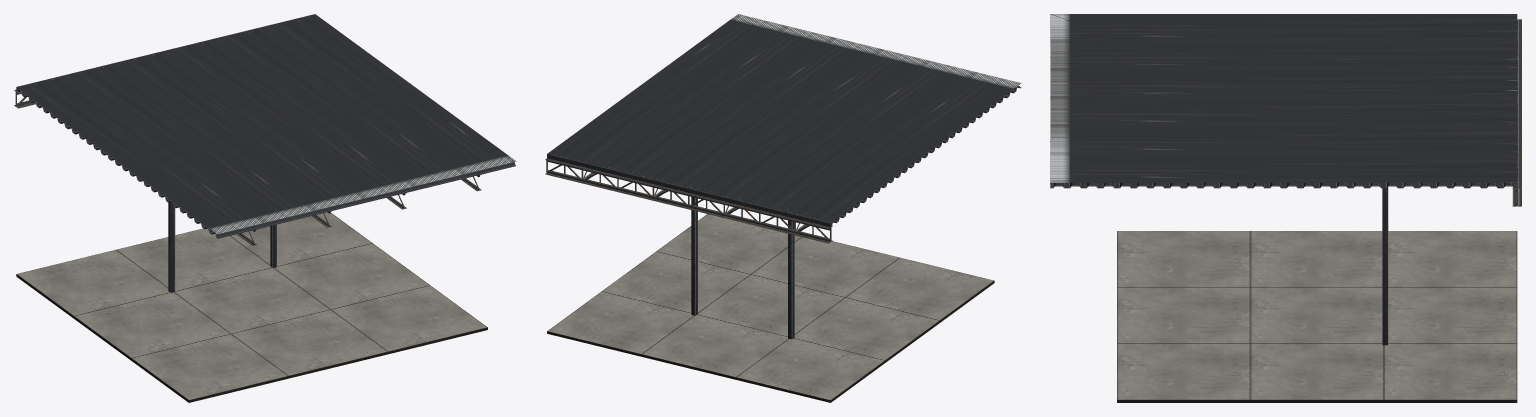
File: Corridor_T.fbx
3 views of the same model, side by side, from view 1: azimuth 30°, elevation 25°; view 2: azimuth 150°, elevation 25°; view 3: azimuth 270°, elevation 25° (orthographic). The views are drawn at different scales.
Parts seen in each view (by area): view 1: Ceiling, Floor, Trim; view 2: Ceiling, Floor, Trim; view 3: Ceiling, Floor, Trim.
Boxes of the visible parts, x1,y1,x2,y2 form: Ceiling: (14,14,516,245); Floor: (16,212,487,402); Trim: (168,78,276,292); Ceiling: (545,14,1021,243); Floor: (547,214,994,402); Trim: (691,137,794,339); Ceiling: (1050,14,1521,206); Floor: (1117,231,1517,402); Trim: (1382,68,1388,345).
Size of the model in its own units: 24.13 by 14.55 by 28.31.
Materials: 2 (2 with a texture image).
